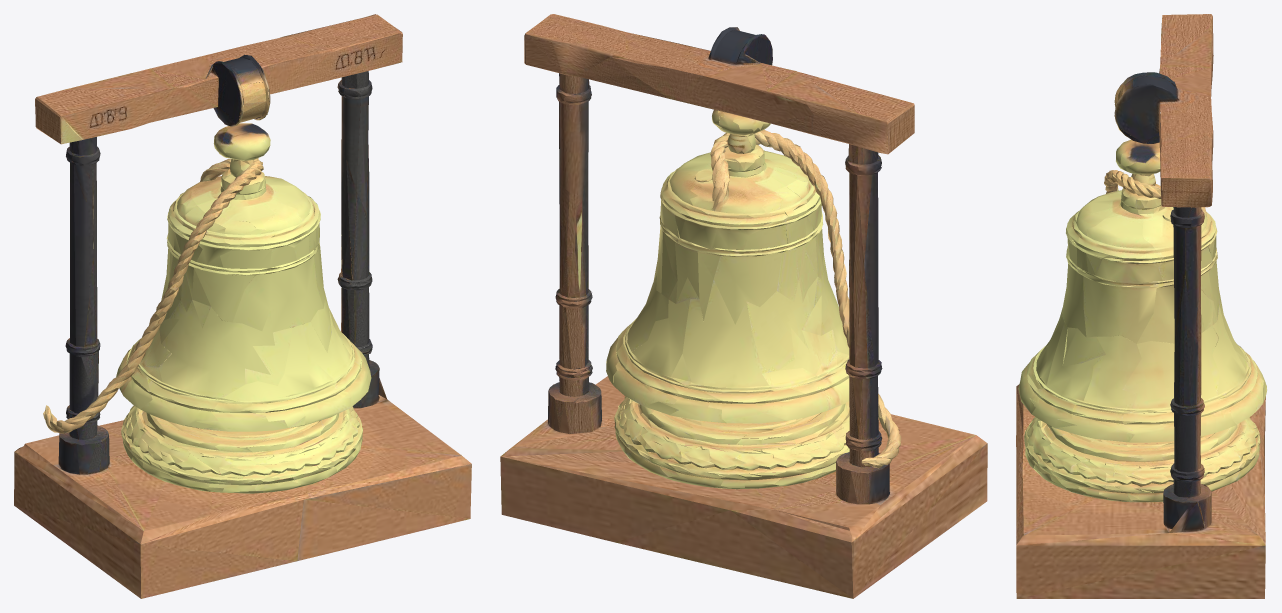
The model's file is sino-cais.glb.
The picture shows the model from 3 angles, left to right: view 1: azimuth 30°, elevation 25°; view 2: azimuth 150°, elevation 25°; view 3: azimuth 270°, elevation 25°; orthographic projection. The views are drawn at different scales.
Parts seen in each view (by area): view 1: sino-cais; view 2: sino-cais; view 3: sino-cais.
Boxes of the visible parts, <box> form: sino-cais: <box>14,14,471,598</box>; sino-cais: <box>500,14,987,598</box>; sino-cais: <box>1016,14,1266,598</box>.
Bounding box in the file's own units: 1.08 × 1.35 × 0.6973.
Materials: 1 (1 with a texture image).
